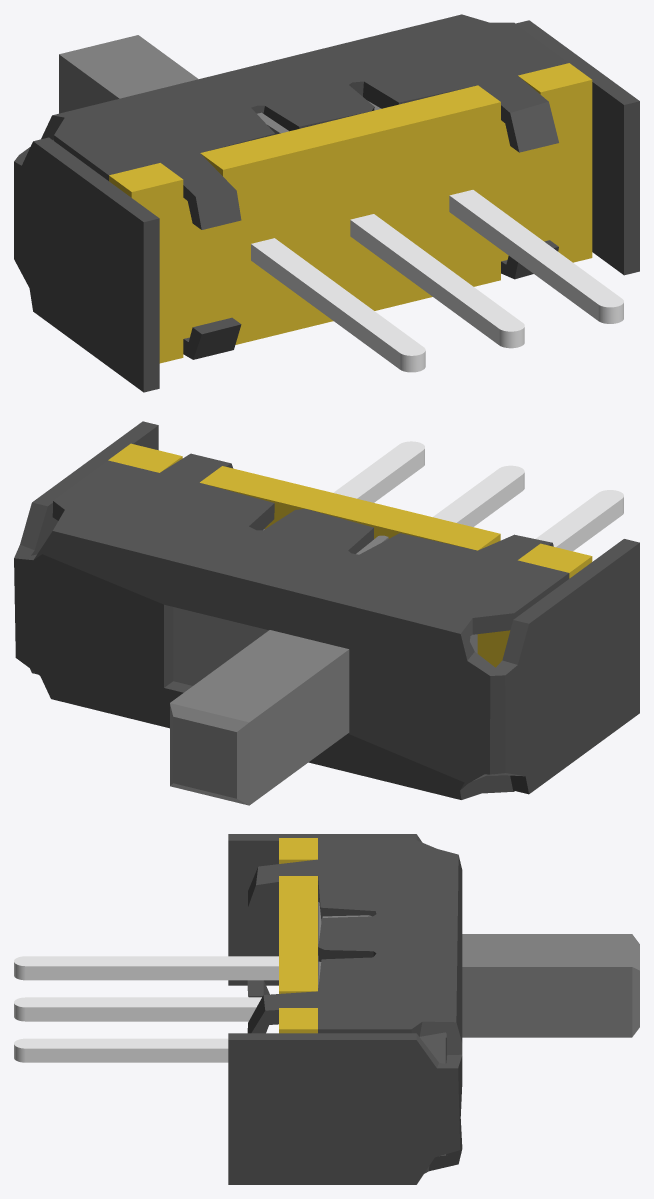
File: switch.fbx
3 renders of one model, top to bottom at view 1: azimuth 30°, elevation 25°; view 2: azimuth 150°, elevation 25°; view 3: azimuth 270°, elevation 25°, orthographic. The views are drawn at different scales.
Parts seen in each view (by area): view 1: switch_mesh, imagetostl_mesh3.002, imagetostl_mesh3.001, imagetostl_mesh3.003, switch; view 2: switch_mesh, switch, imagetostl_mesh3.001, imagetostl_mesh3.003, imagetostl_mesh3.002; view 3: switch_mesh, switch, imagetostl_mesh3.002, imagetostl_mesh3.001, imagetostl_mesh3.003.
Boxes of the visible parts, x1=… form: switch_mesh: x1=14, y1=14, x2=639, y2=392; imagetostl_mesh3.002: x1=251, y1=238, x2=425, y2=372; imagetostl_mesh3.001: x1=350, y1=214, x2=524, y2=348; imagetostl_mesh3.003: x1=449, y1=190, x2=623, y2=323; switch: x1=59, y1=35, x2=198, y2=113; switch_mesh: x1=14, y1=421, x2=639, y2=799; switch: x1=170, y1=630, x2=349, y2=805; imagetostl_mesh3.001: x1=433, y1=465, x2=524, y2=526; imagetostl_mesh3.003: x1=333, y1=441, x2=424, y2=502; imagetostl_mesh3.002: x1=536, y1=490, x2=623, y2=551; switch_mesh: x1=228, y1=834, x2=462, y2=1184; switch: x1=445, y1=934, x2=639, y2=1037; imagetostl_mesh3.002: x1=14, y1=956, x2=278, y2=980; imagetostl_mesh3.001: x1=14, y1=997, x2=261, y2=1021; imagetostl_mesh3.003: x1=14, y1=1038, x2=228, y2=1062.
Bounding box in the file's own units: 1250 × 429 × 1605.
